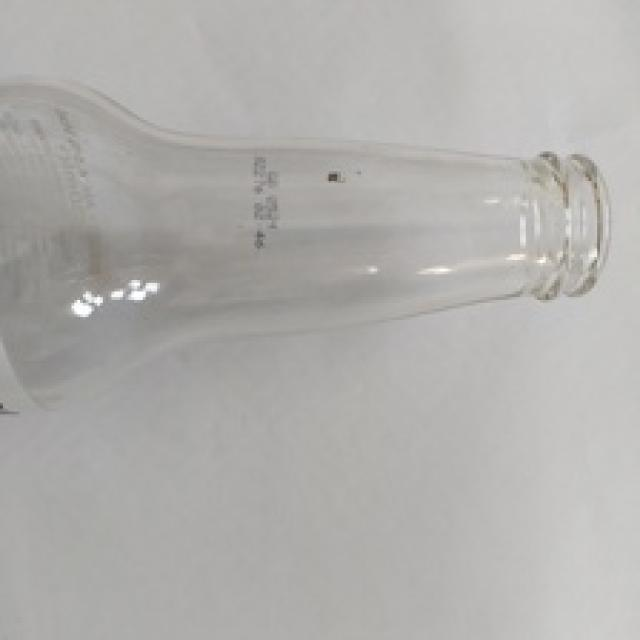Glass: (0, 76, 607, 429)
